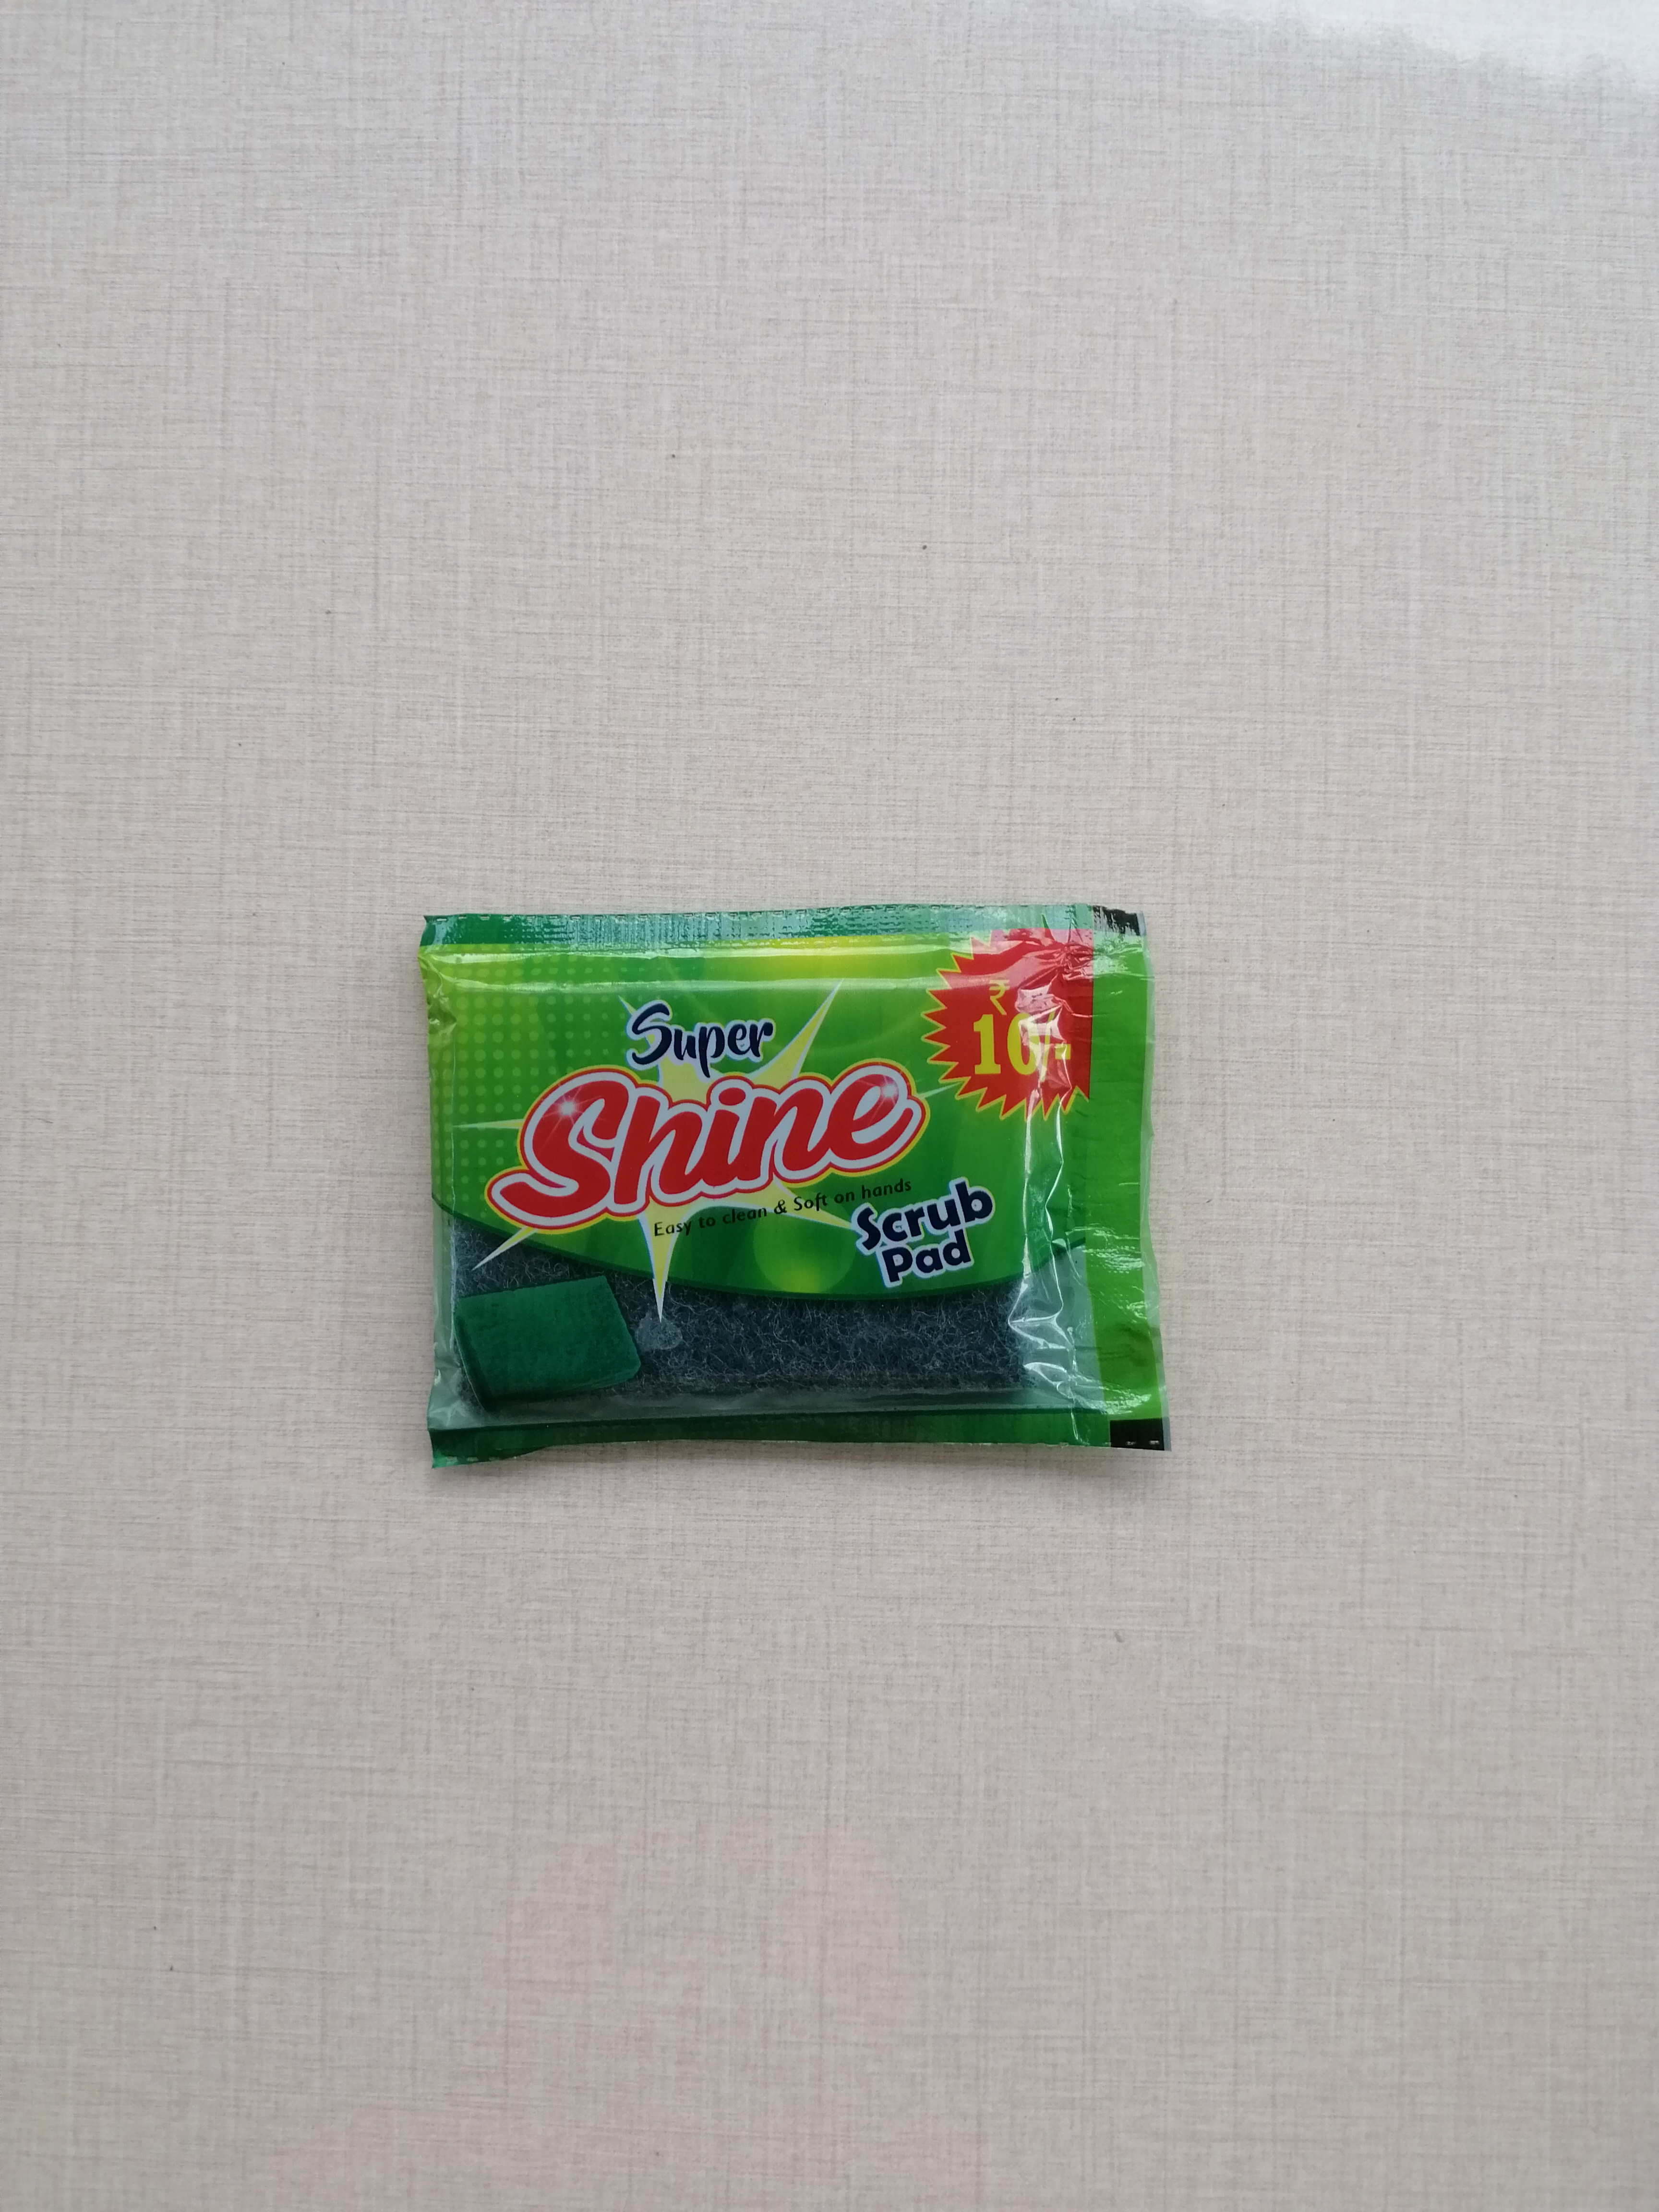super_shine: (422, 916, 1175, 1465)
